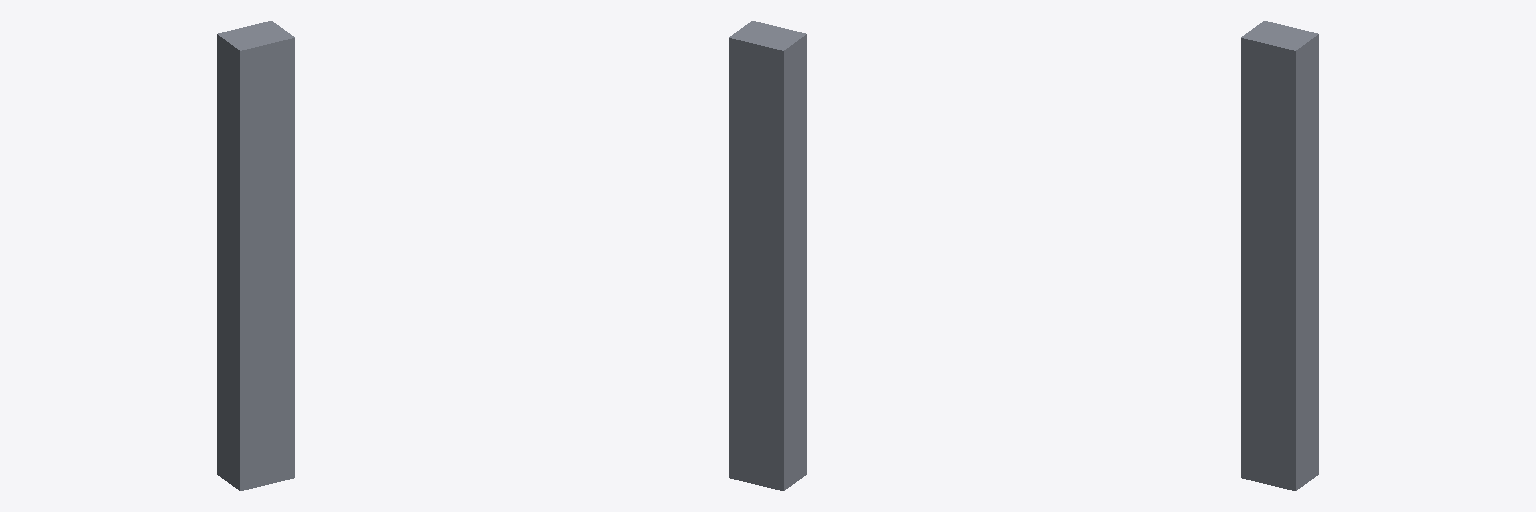
The robot description file, URDF, robot "artmanip_knife_000":
<?xml version='1.0' encoding='utf-8'?>
<robot name="artmanip_knife_000"><link name="link_0"><inertial><mass value="0.03476195434652449" /><inertia ixx="5.3425581684092004e-05" iyy="5.3833942753500975e-05" izz="1.3928595204208093e-06" ixy="0" ixz="0" iyz="0" /></inertial><visual><geometry><box size="0.017632219519747163 0.013035600773105668 0.13517710732902216" /></geometry><material name="link_0_color"><color rgba=".58 .60 .64 1" /></material></visual><collision><geometry><box size="0.017632219519747163 0.013035600773105668 0.13517710732902216" /></geometry></collision></link><link name="link_1"><inertial><mass value="0.006" /><inertia ixx="4.545e-07" iyy="5e-07" izz="5.45e-08" ixy="0" ixz="0" iyz="0" /></inertial><visual><geometry><mesh filename="slider-shoulder.obj" /></geometry><material name="link_1_color"><color rgba=".12 .13 .15 1" /></material></visual><collision><geometry><mesh filename="slider-shoulder.obj" /></geometry></collision></link><joint name="slider" type="prismatic"><parent link="link_0" /><child link="link_1" /><origin xyz="0.00024215304387323225 0.007535125005649239 0.010479460132875047" /><axis xyz="0 0 1" /><limit lower="-0.03267458688196273" upper="0.017325413118037272" effort="100" velocity="1" /><dynamics damping="1000" friction="0.001" /></joint></robot>

--- Facts derived from the render (not from the file) ---
Views: 3 orthographic renders of the robot side by side, from view 1: azimuth 30°, elevation 25°; view 2: azimuth 150°, elevation 25°; view 3: azimuth 330°, elevation 25°.
Model artmanip_knife_000 with 2 links and 1 joints (1 prismatic), rooted at link_0, posed every joint at zero.
Links seen in each view (by area): view 1: link_0; view 2: link_0; view 3: link_0.
Boxes of the visible links, left/top/right/bottom form: link_0: left=217, top=21, right=294, bottom=490; link_0: left=729, top=21, right=806, bottom=490; link_0: left=1241, top=21, right=1318, bottom=490.
Size in the robot's own frame: 0.0176 by 0.013 by 0.1352 metres.
Meshes: 1 distinct files referenced, 0 mesh visuals loaded (none loaded); not drawn: 1 (reference not matched to a file when rendering).
